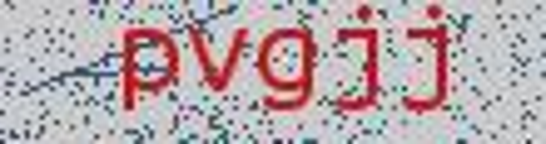g: (253, 15, 325, 135)
j: (391, 1, 459, 128), (327, 1, 389, 132)
p: (95, 22, 185, 128)
v: (185, 13, 252, 113)
